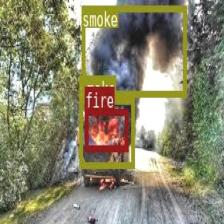fire: (84, 108, 128, 151)
smoke: (81, 4, 186, 96), (78, 97, 134, 167)
